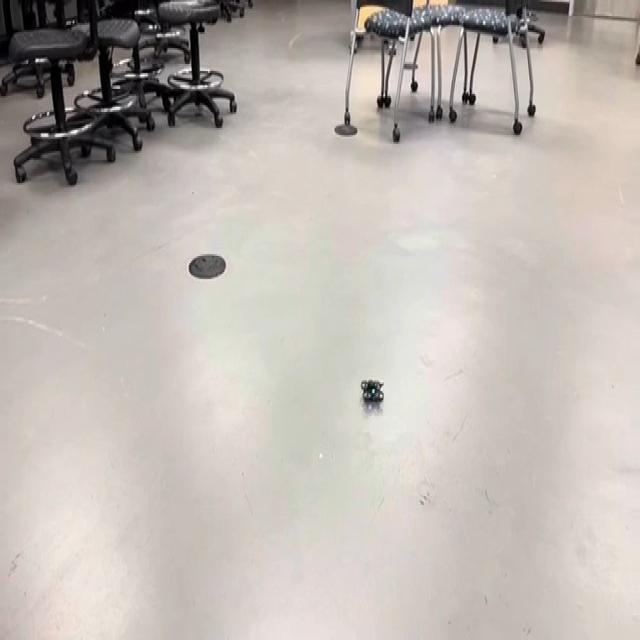drone: (356, 367, 389, 413)
